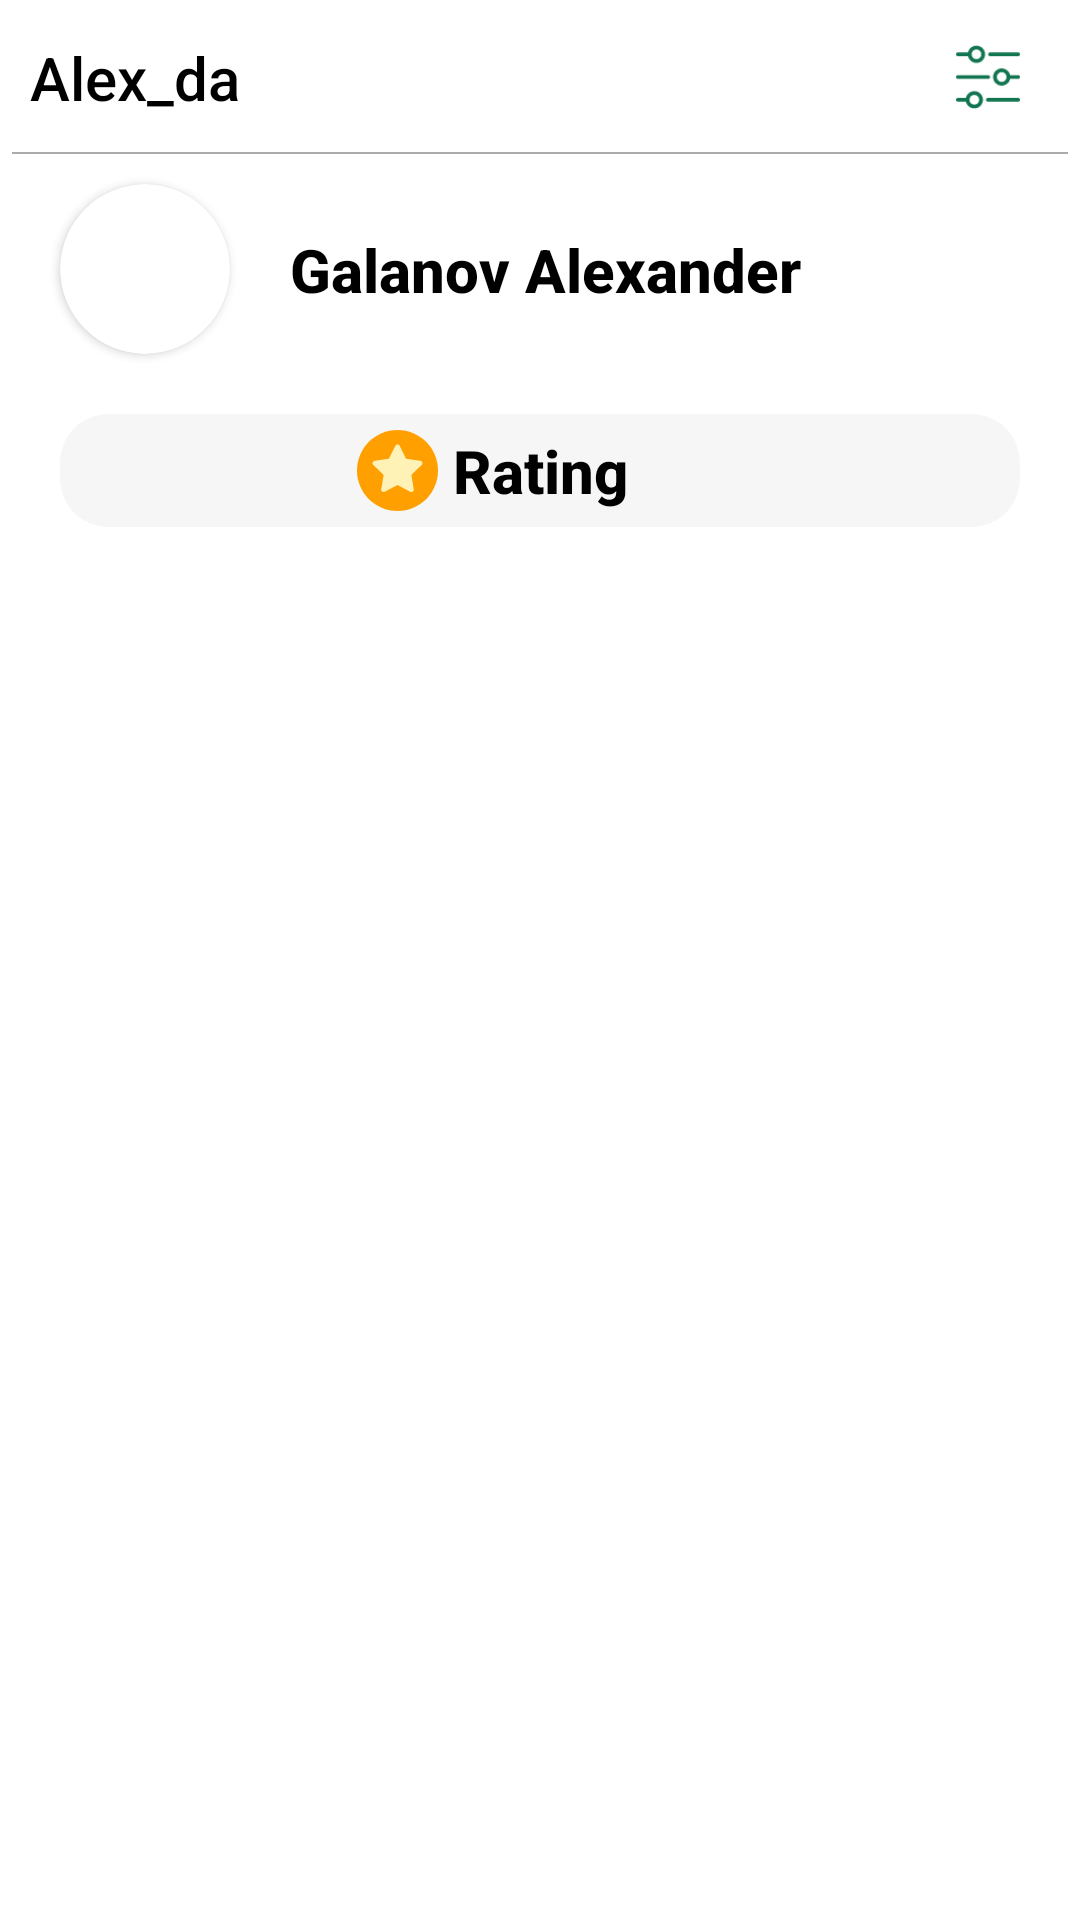

Icons on this 1080px x 1920px Android screen, each with the point to tap as point (x, y):
setting lines: point (988, 77)
